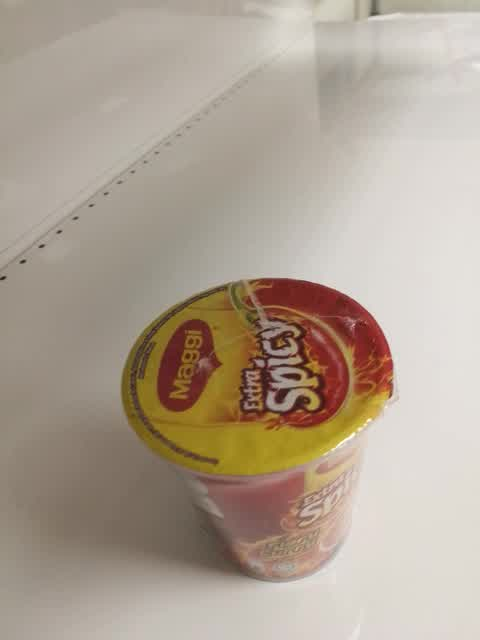maggi: (121, 275, 395, 582)
